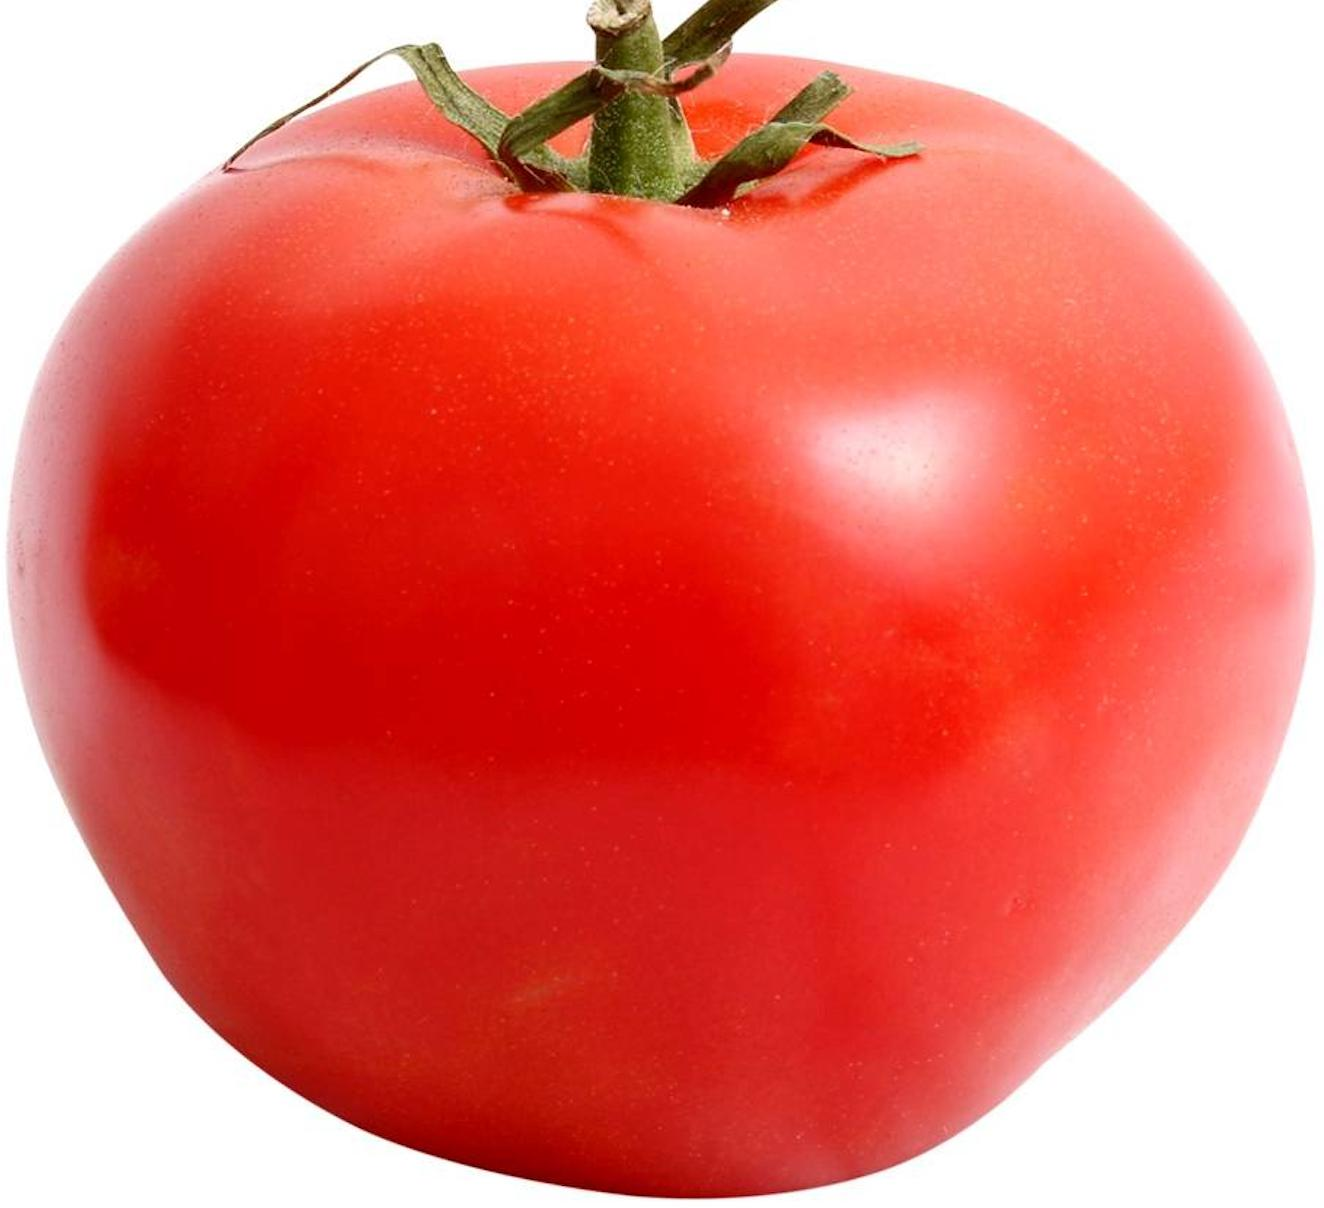tomato: (24, 67, 1324, 1188)
